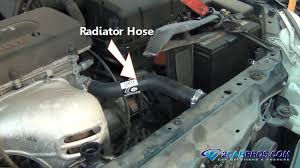radiator_hose: (92, 76, 212, 104)
